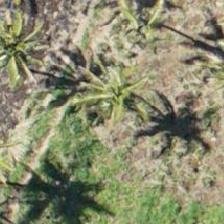coconut_tree: (81, 57, 171, 147), (0, 0, 48, 83)
